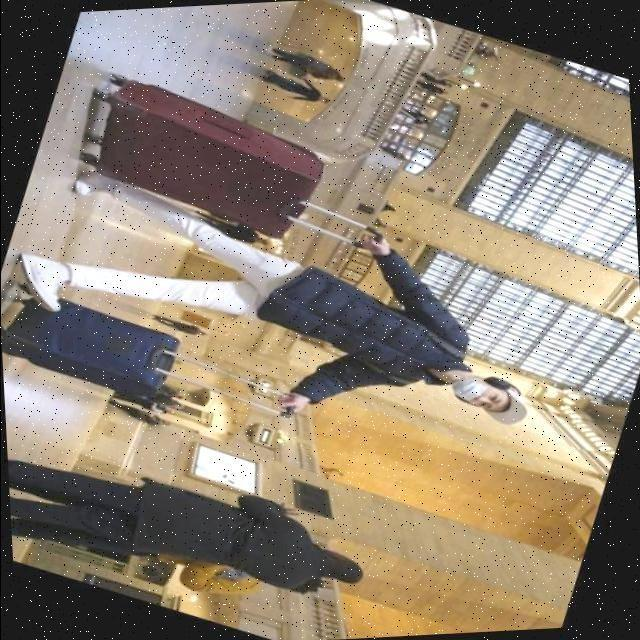no_apron: (366, 232, 396, 258), (290, 389, 308, 422)
